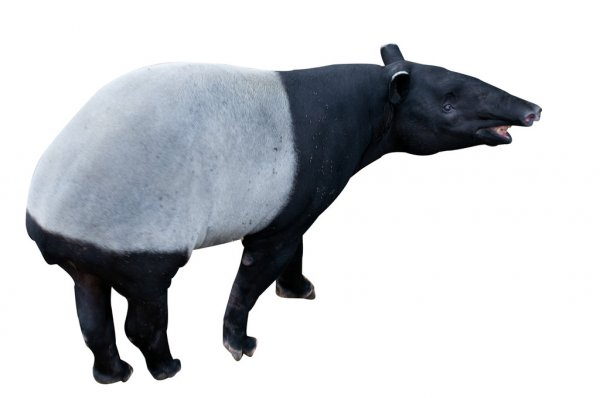Anta: (17, 39, 549, 387)
